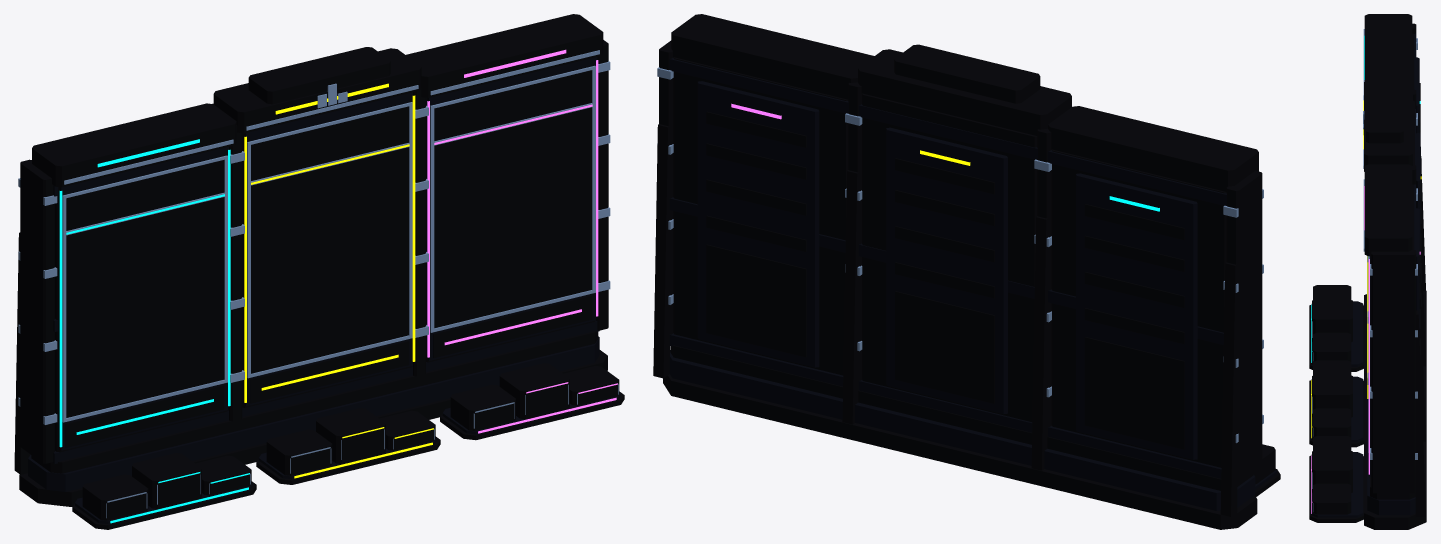
File: SM_Hub_Leaderboard_01.glb
The picture shows the model from 3 angles, left to right: view 1: azimuth 30°, elevation 25°; view 2: azimuth 150°, elevation 25°; view 3: azimuth 270°, elevation 25°; orthographic projection. The views are drawn at different scales.
Parts seen in each view (by area): view 1: GEO_Leaderboard_UIMain_B_SessionWins, GEO_Leaderboard_UIMain_A_SessionKOs, GEO_Leaderboard_UIMain_C_SessionStandings, GEO_Leaderboard_CanopyCrown, GEO_Leaderboard_SupportPiers, GEO_Leaderboard_LightTrim, GEO_Leaderboard_WallPlinth, GEO_Leaderboard_WallPedestal, GEO_Leaderboard_UIHeader_B_SessionWins, GEO_Leaderboard_UIHeader_A_SessionKOs, GEO_Leaderboard_Module_A_Housing, GEO_Leaderboard_UIHeader_C_SessionStandings (+26 smaller); view 2: GEO_Leaderboard_RearSpine, GEO_Leaderboard_RearServicePanels, GEO_Leaderboard_CanopyCrown, GEO_Leaderboard_WallPlinth, GEO_Leaderboard_Module_B_Housing, GEO_Leaderboard_CrossGirders, GEO_Leaderboard_RearStabilizers, GEO_Leaderboard_Module_A_Housing, GEO_Leaderboard_Module_C_Housing, GEO_Leaderboard_SupportPiers, GEO_Leaderboard_WallPedestal, GEO_Leaderboard_CollarClamps; view 3: GEO_Leaderboard_CanopyCrown, GEO_Leaderboard_SupportPiers, GEO_Leaderboard_WallPlinth, GEO_Leaderboard_RearStabilizers, GEO_Leaderboard_Podium_B1_1ST, GEO_Leaderboard_Podium_A1_1ST, GEO_Leaderboard_Podium_C1_1ST, GEO_Leaderboard_Podium_C3_3RD, GEO_Leaderboard_Podium_A3_3RD, GEO_Leaderboard_Podium_B3_3RD, GEO_Leaderboard_RearSpine, GEO_Leaderboard_WallPedestal (+18 smaller).
Part boxes in pixels (x1=…): GEO_Leaderboard_UIMain_B_SessionWins: x1=251, y1=147, x2=408, y2=373; GEO_Leaderboard_UIMain_A_SessionKOs: x1=66, y1=197, x2=224, y2=417; GEO_Leaderboard_UIMain_C_SessionStandings: x1=434, y1=107, x2=591, y2=328; GEO_Leaderboard_CanopyCrown: x1=32, y1=14, x2=603, y2=187; GEO_Leaderboard_SupportPiers: x1=20, y1=40, x2=608, y2=463; GEO_Leaderboard_LightTrim: x1=62, y1=50, x2=599, y2=422; GEO_Leaderboard_WallPlinth: x1=19, y1=331, x2=607, y2=506; GEO_Leaderboard_WallPedestal: x1=28, y1=336, x2=599, y2=491; GEO_Leaderboard_UIHeader_B_SessionWins: x1=251, y1=106, x2=408, y2=180; GEO_Leaderboard_UIHeader_A_SessionKOs: x1=66, y1=160, x2=224, y2=230; GEO_Leaderboard_Module_A_Housing: x1=55, y1=187, x2=227, y2=452; GEO_Leaderboard_UIHeader_C_SessionStandings: x1=434, y1=70, x2=591, y2=140; GEO_Leaderboard_RearSpine: x1=697, y1=81, x2=1197, y2=459; GEO_Leaderboard_RearServicePanels: x1=706, y1=111, x2=1184, y2=449; GEO_Leaderboard_CanopyCrown: x1=671, y1=14, x2=1258, y2=191; GEO_Leaderboard_WallPlinth: x1=663, y1=345, x2=1257, y2=529; GEO_Leaderboard_Module_B_Housing: x1=862, y1=93, x2=1037, y2=421; GEO_Leaderboard_CrossGirders: x1=669, y1=58, x2=1226, y2=478; GEO_Leaderboard_RearStabilizers: x1=653, y1=124, x2=1237, y2=516; GEO_Leaderboard_Module_A_Housing: x1=1051, y1=149, x2=1226, y2=467; GEO_Leaderboard_Module_C_Housing: x1=673, y1=57, x2=848, y2=375; GEO_Leaderboard_SupportPiers: x1=659, y1=40, x2=1262, y2=482; GEO_Leaderboard_WallPedestal: x1=669, y1=350, x2=1255, y2=510; GEO_Leaderboard_CollarClamps: x1=657, y1=67, x2=1263, y2=443; GEO_Leaderboard_CanopyCrown: x1=1364, y1=14, x2=1412, y2=256; GEO_Leaderboard_SupportPiers: x1=1371, y1=23, x2=1416, y2=493; GEO_Leaderboard_WallPlinth: x1=1364, y1=290, x2=1426, y2=529; GEO_Leaderboard_RearStabilizers: x1=1415, y1=147, x2=1425, y2=516; GEO_Leaderboard_Podium_B1_1ST: x1=1312, y1=374, x2=1352, y2=417; GEO_Leaderboard_Podium_A1_1ST: x1=1312, y1=299, x2=1352, y2=341; GEO_Leaderboard_Podium_C1_1ST: x1=1312, y1=450, x2=1352, y2=492; GEO_Leaderboard_Podium_C3_3RD: x1=1313, y1=483, x2=1351, y2=514; GEO_Leaderboard_Podium_A3_3RD: x1=1313, y1=332, x2=1351, y2=361; GEO_Leaderboard_Podium_B3_3RD: x1=1313, y1=408, x2=1351, y2=437; GEO_Leaderboard_RearSpine: x1=1416, y1=57, x2=1420, y2=336; GEO_Leaderboard_WallPedestal: x1=1367, y1=399, x2=1415, y2=515.
Bounding box in the file's own units: 42 × 26 × 9.
Materials: 6 (6 with a texture image).
